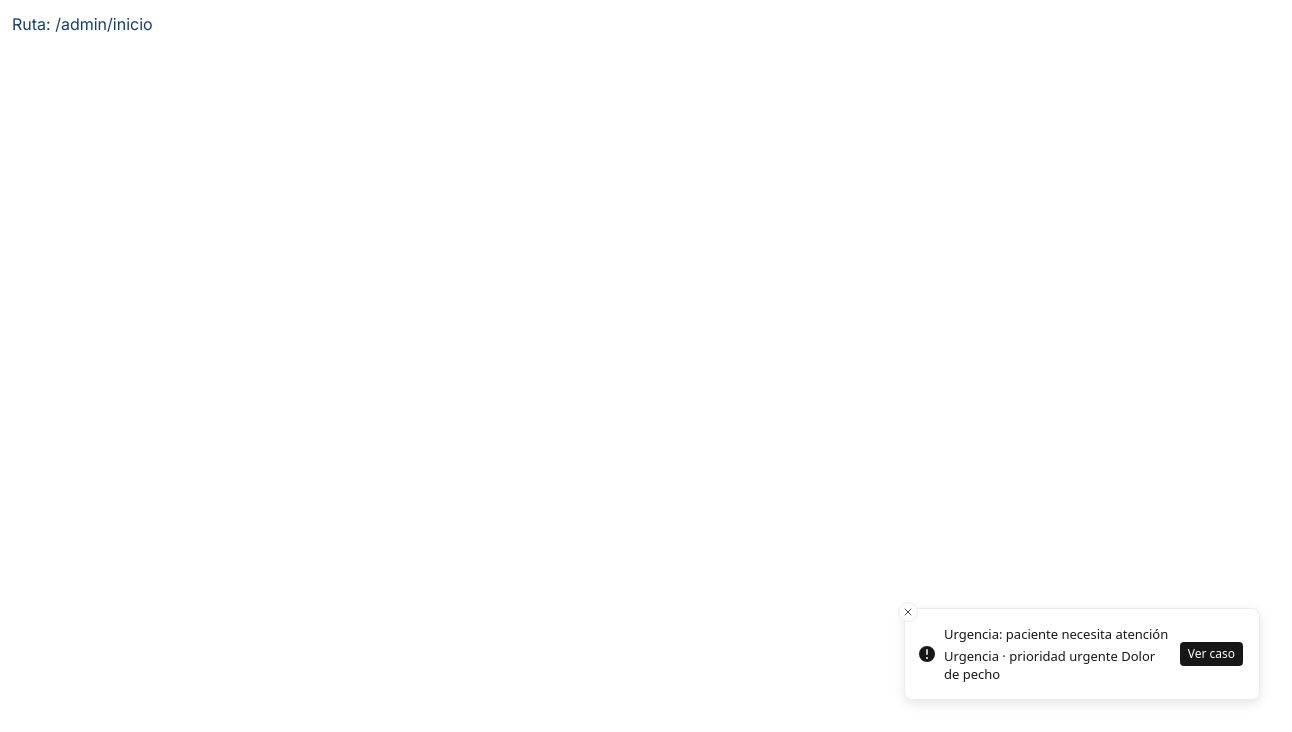
it: alertas de casos en el panel (Realtime) › una notificación de caso muestra un aviso fijo con 'Ver caso' que abre ese caso
The image size is (1292, 732).
Check: the text "Urgencia: paciente necesita atención" is shown, box [944,625,1174,645]
Click the button "Ver caso".
click(1211, 654)  # box [1180,642,1243,666]
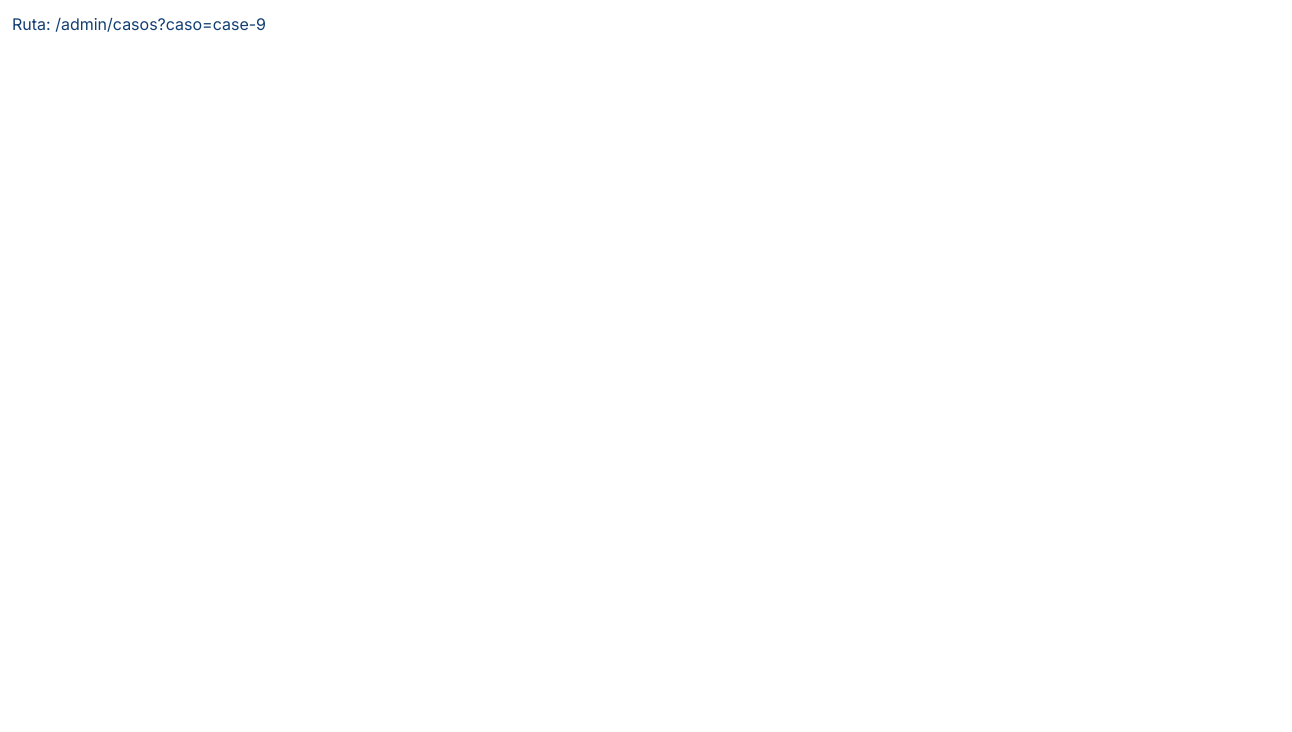
Check: the text "Ruta: /admin/casos?caso=case-9" is shown, box [12,14,266,34]
